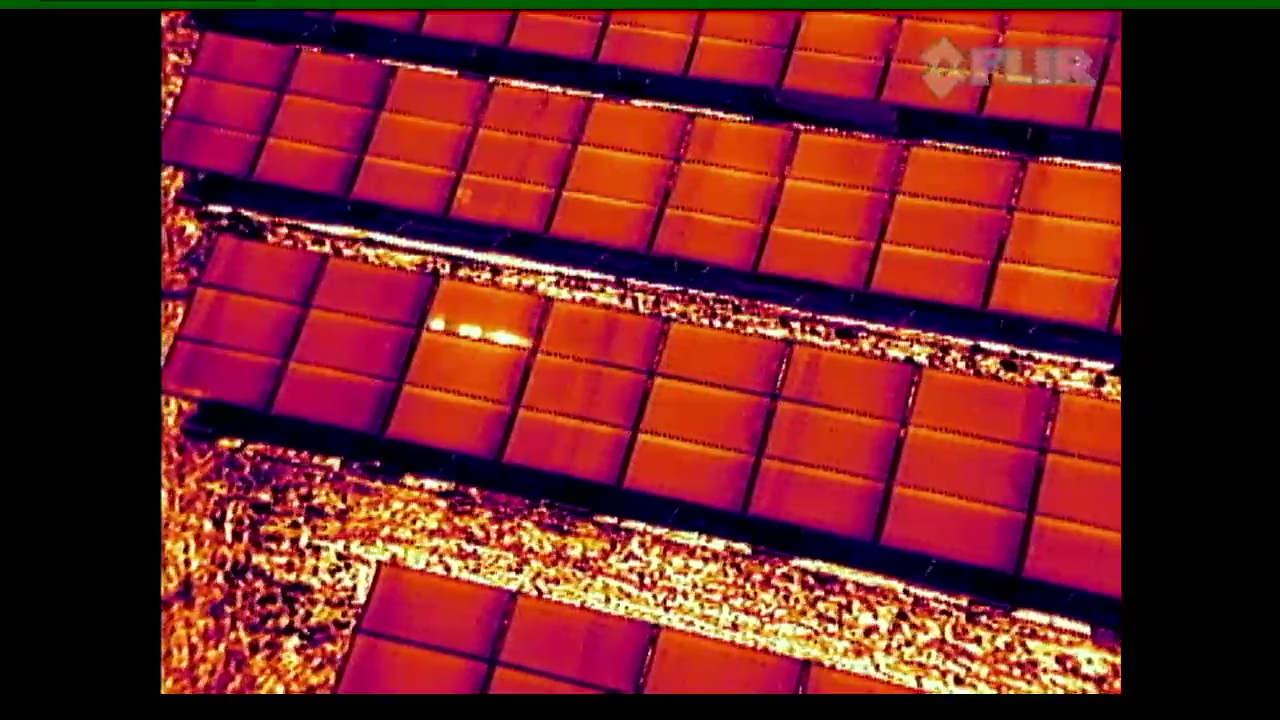hotspot: (377, 273, 558, 456)
